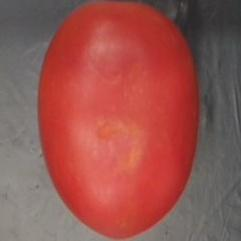unripe: (31, 0, 206, 241)
